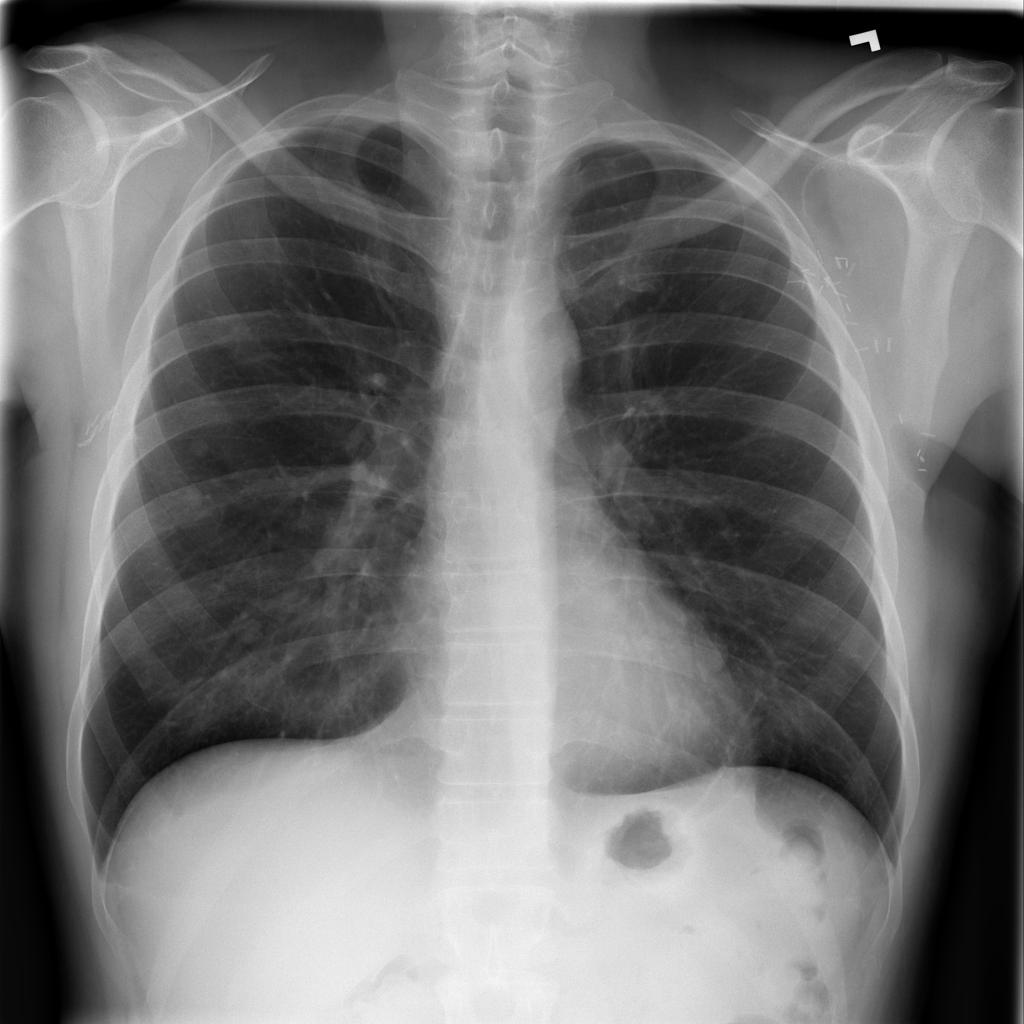nodule: (172, 421, 227, 469), (223, 602, 274, 652)
